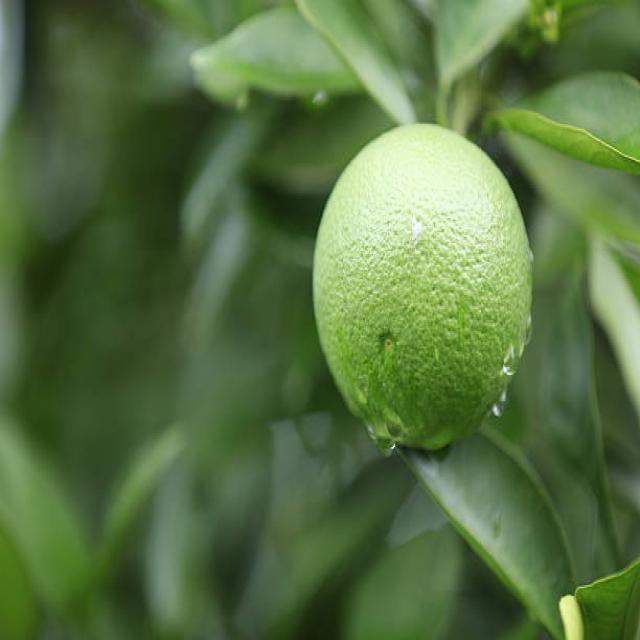Unripe: (310, 121, 534, 451)
